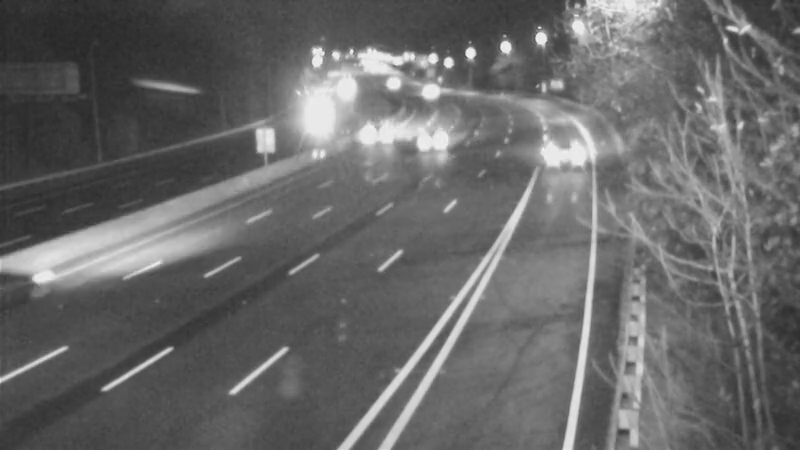vehicle: (1, 248, 67, 328), (365, 58, 415, 108), (401, 67, 451, 117), (533, 123, 583, 173), (417, 110, 467, 160), (348, 112, 398, 162), (280, 92, 330, 142), (322, 62, 372, 112)
